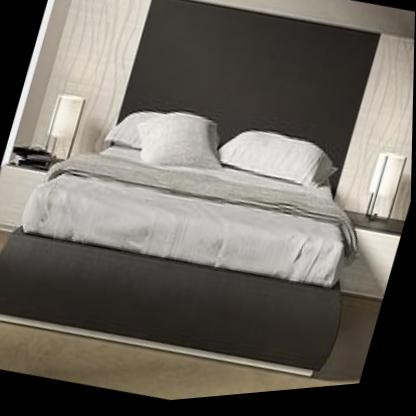Bed: (0, 49, 399, 413)
